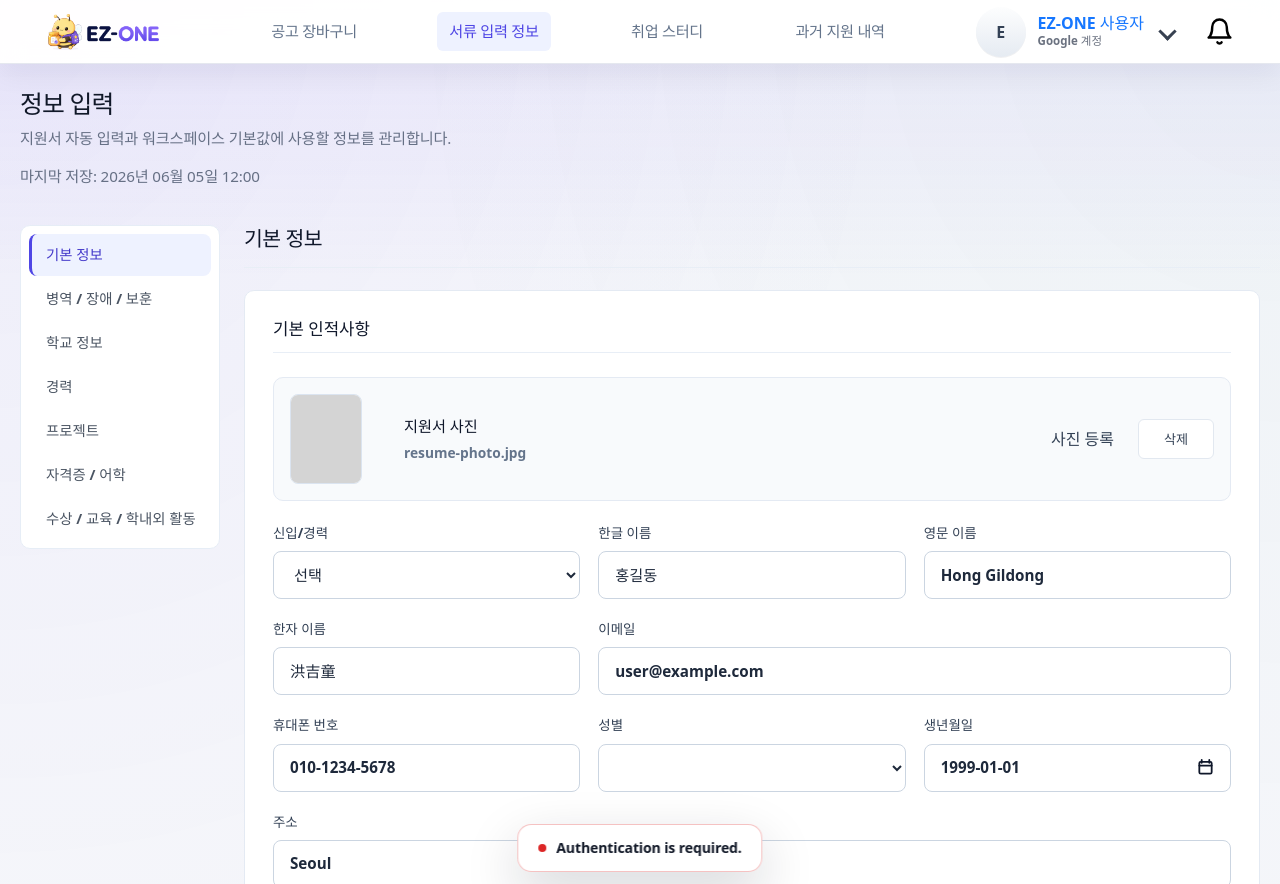
DocumentProfilePage › PROFILE-011: uses selects for military classification fields
Click the button with test id "section-military".
click(120, 299)  # box [29,278,211,320]
(page scrolled)
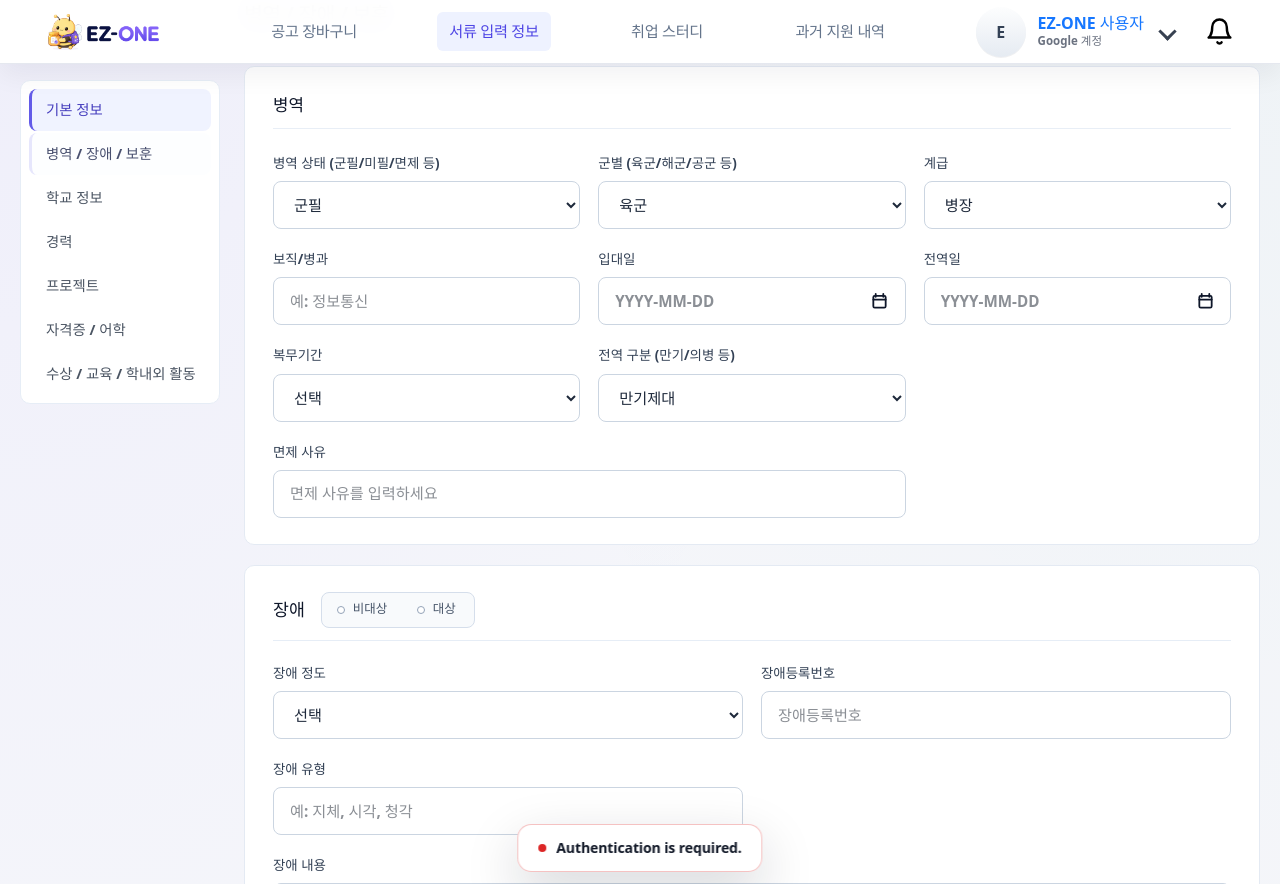
Check: the dropdown with test id "military-branch" shows "육군", box [598,181,906,229]
Check: the dropdown with test id "military-branch" shows "해군", box [598,181,906,229]
Check: the dropdown with test id "military-branch" shows "공군", box [598,181,906,229]
